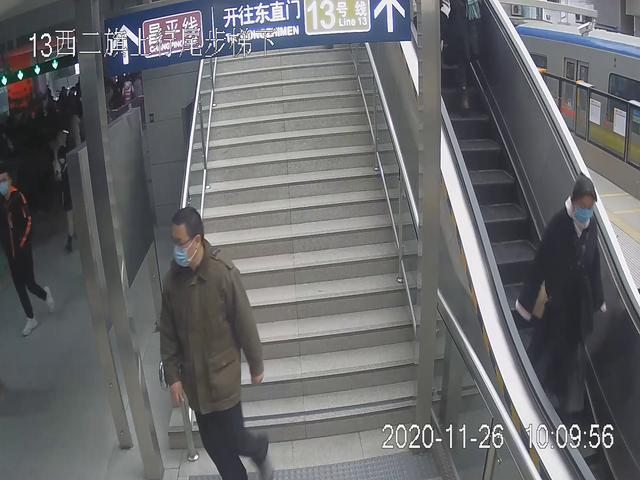person: (160, 204, 279, 480), (508, 170, 608, 443)
